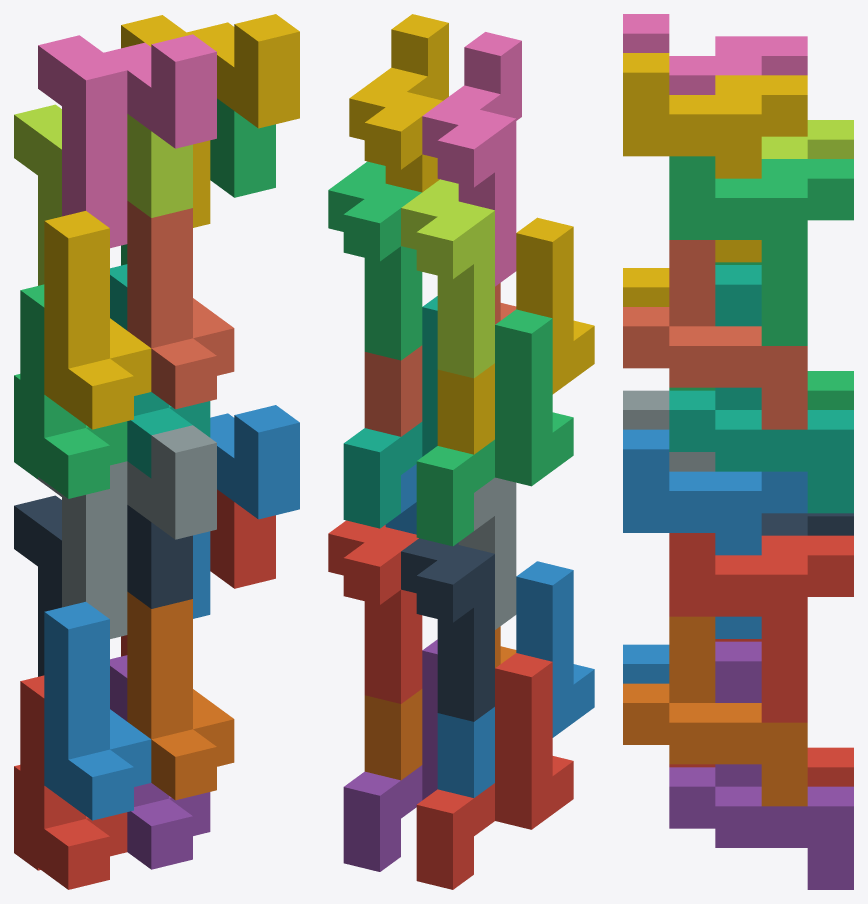
The model's file is tiling.obj.
3 renders of one model, left to right at view 1: azimuth 30°, elevation 25°; view 2: azimuth 150°, elevation 25°; view 3: azimuth 270°, elevation 25°, orthographic. The views are drawn at different scales.
Visible parts, largest first — view 1: copy_2_domain_4, copy_2_domain_2, copy_1_domain_2, copy_1_domain_4, copy_1_domain_6, copy_1_domain_8, copy_2_domain_8, copy_1_domain_1, copy_1_domain_3, copy_2_domain_6, copy_2_domain_1, copy_2_domain_3 (+4 smaller); view 2: copy_1_domain_3, copy_1_domain_1, copy_2_domain_4, copy_2_domain_3, copy_1_domain_2, copy_1_domain_4, copy_2_domain_1, copy_2_domain_7, copy_2_domain_8, copy_2_domain_5, copy_1_domain_5, copy_1_domain_7 (+4 smaller); view 3: copy_2_domain_5, copy_2_domain_7, copy_1_domain_6, copy_1_domain_7, copy_1_domain_8, copy_2_domain_8, copy_1_domain_5, copy_2_domain_6, copy_2_domain_4, copy_2_domain_3, copy_2_domain_2, copy_1_domain_1 (+4 smaller).
Boxes of the visible parts, x1=… form: copy_2_domain_4: x1=38, y1=34, x2=216, y2=248; copy_2_domain_2: x1=38, y1=425, x2=216, y2=638; copy_1_domain_2: x1=44, y1=601, x2=151, y2=820; copy_1_domain_4: x1=44, y1=211, x2=151, y2=429; copy_1_domain_6: x1=127, y1=591, x2=234, y2=800; copy_1_domain_8: x1=127, y1=201, x2=234, y2=409; copy_2_domain_8: x1=121, y1=14, x2=299, y2=227; copy_1_domain_1: x1=14, y1=675, x2=127, y2=889; copy_1_domain_3: x1=14, y1=284, x2=127, y2=498; copy_2_domain_6: x1=193, y1=405, x2=299, y2=618; copy_2_domain_1: x1=14, y1=495, x2=192, y2=676; copy_2_domain_3: x1=14, y1=104, x2=192, y2=285; copy_1_domain_3: x1=416, y1=309, x2=573, y2=546; copy_1_domain_1: x1=416, y1=653, x2=573, y2=889; copy_2_domain_4: x1=422, y1=32, x2=521, y2=286; copy_2_domain_3: x1=401, y1=179, x2=494, y2=378; copy_1_domain_2: x1=437, y1=561, x2=594, y2=797; copy_1_domain_4: x1=437, y1=217, x2=594, y2=454; copy_2_domain_1: x1=401, y1=538, x2=494, y2=721; copy_2_domain_7: x1=328, y1=161, x2=422, y2=360; copy_2_domain_8: x1=349, y1=14, x2=448, y2=192; copy_2_domain_5: x1=328, y1=520, x2=422, y2=703; copy_1_domain_5: x1=343, y1=639, x2=437, y2=871; copy_1_domain_7: x1=343, y1=296, x2=437, y2=528; copy_2_domain_5: x1=669, y1=533, x2=853, y2=722; copy_2_domain_7: x1=669, y1=156, x2=853, y2=345; copy_1_domain_6: x1=623, y1=616, x2=807, y2=806; copy_1_domain_7: x1=669, y1=265, x2=853, y2=513; copy_1_domain_8: x1=623, y1=240, x2=807, y2=429; copy_2_domain_8: x1=623, y1=53, x2=807, y2=262; copy_1_domain_5: x1=669, y1=641, x2=853, y2=889; copy_2_domain_6: x1=623, y1=429, x2=807, y2=638; copy_2_domain_4: x1=623, y1=14, x2=807, y2=94; copy_2_domain_3: x1=761, y1=120, x2=853, y2=158; copy_2_domain_2: x1=623, y1=390, x2=715, y2=471; copy_1_domain_1: x1=669, y1=639, x2=853, y2=786.
Size of the model in its own units: 5 by 20 by 5.
